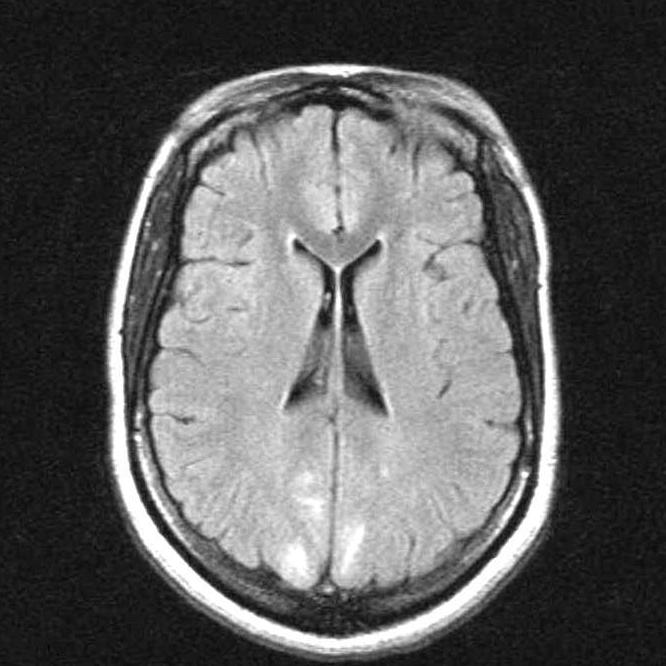Normal_Brain: (1, 11, 605, 666)
